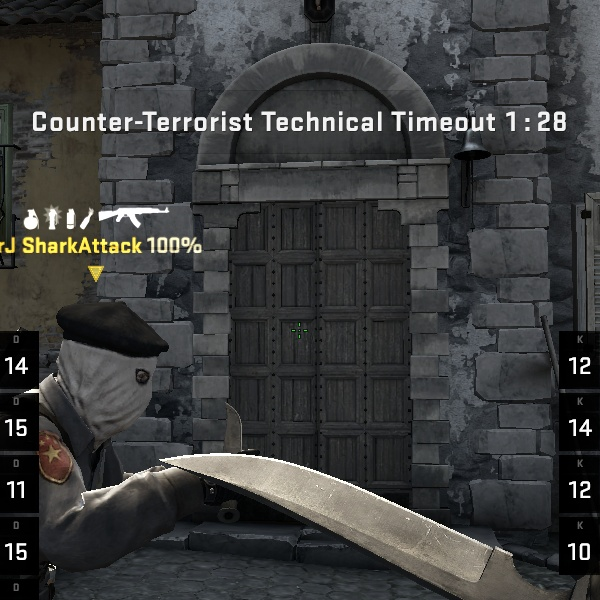ct_head: (32, 294, 172, 417)
t_body: (0, 297, 204, 595)
t_head: (33, 294, 161, 421)
